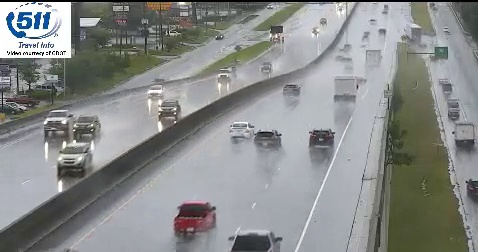car: (173, 200, 216, 233), (253, 130, 281, 150), (309, 129, 334, 146), (229, 122, 253, 138)
small-truck: (333, 76, 357, 103)
